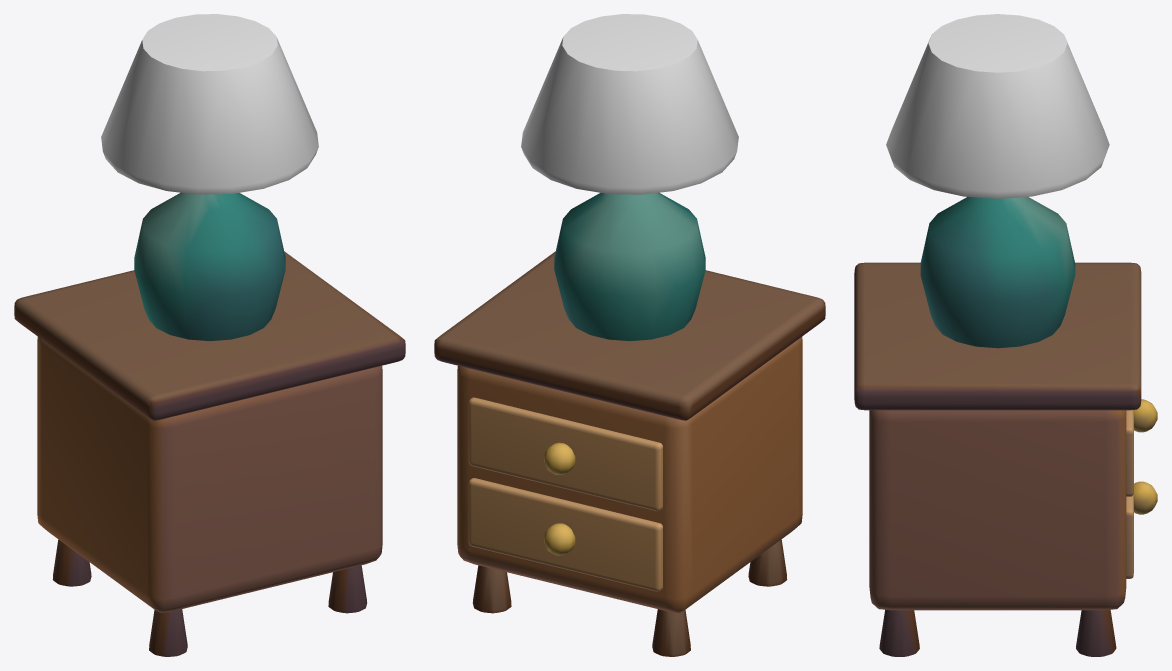
Rendered from Nightstand.fbx.
3 renders of one model, left to right at view 1: azimuth 30°, elevation 25°; view 2: azimuth 150°, elevation 25°; view 3: azimuth 270°, elevation 25°, orthographic. The views are drawn at different scales.
Visible parts, largest first — view 1: SM_Prop_Nightstand, SM_Prop_Nightstand_Shade; view 2: SM_Prop_Nightstand, SM_Prop_Nightstand_Shade; view 3: SM_Prop_Nightstand, SM_Prop_Nightstand_Shade.
Part boxes in pixels (left/top/right/bottom): SM_Prop_Nightstand: left=14, top=192, right=405, bottom=656; SM_Prop_Nightstand_Shade: left=101, top=14, right=318, bottom=194; SM_Prop_Nightstand: left=434, top=192, right=825, bottom=656; SM_Prop_Nightstand_Shade: left=521, top=14, right=738, bottom=194; SM_Prop_Nightstand: left=854, top=197, right=1157, bottom=656; SM_Prop_Nightstand_Shade: left=886, top=14, right=1109, bottom=198.
Size of the model in its own units: 2 by 4.12 by 2.01.
